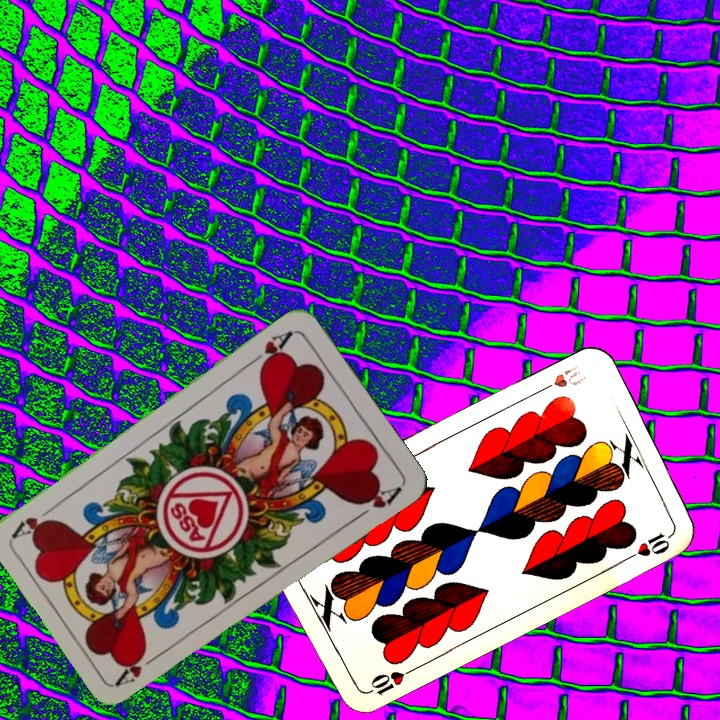H10: (533, 360, 589, 396), (361, 664, 417, 698)
HA: (245, 326, 296, 372), (113, 646, 166, 688)
